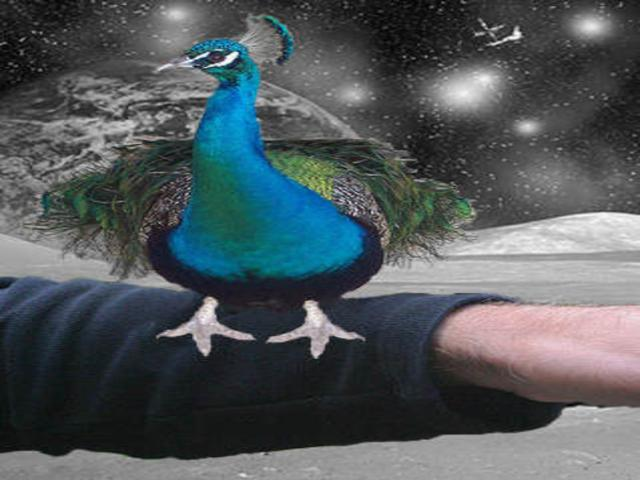Bird: (16, 10, 480, 359)
